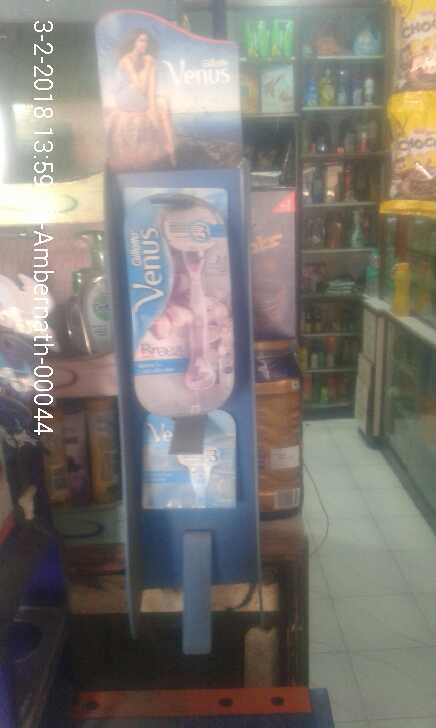beauty: (121, 191, 232, 422), (147, 416, 238, 513)
